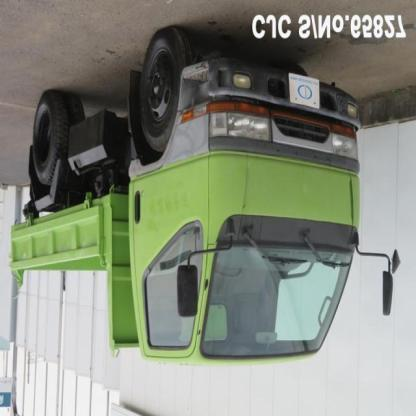truck: (10, 30, 391, 365)
